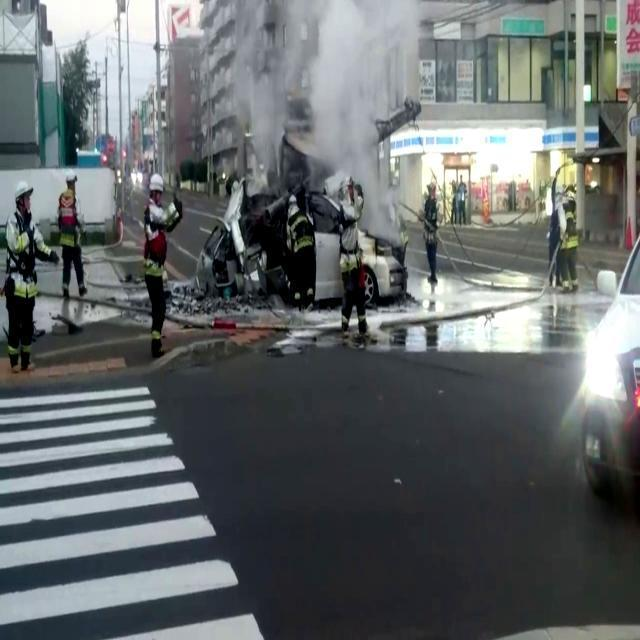Smoke: (226, 0, 432, 204)
